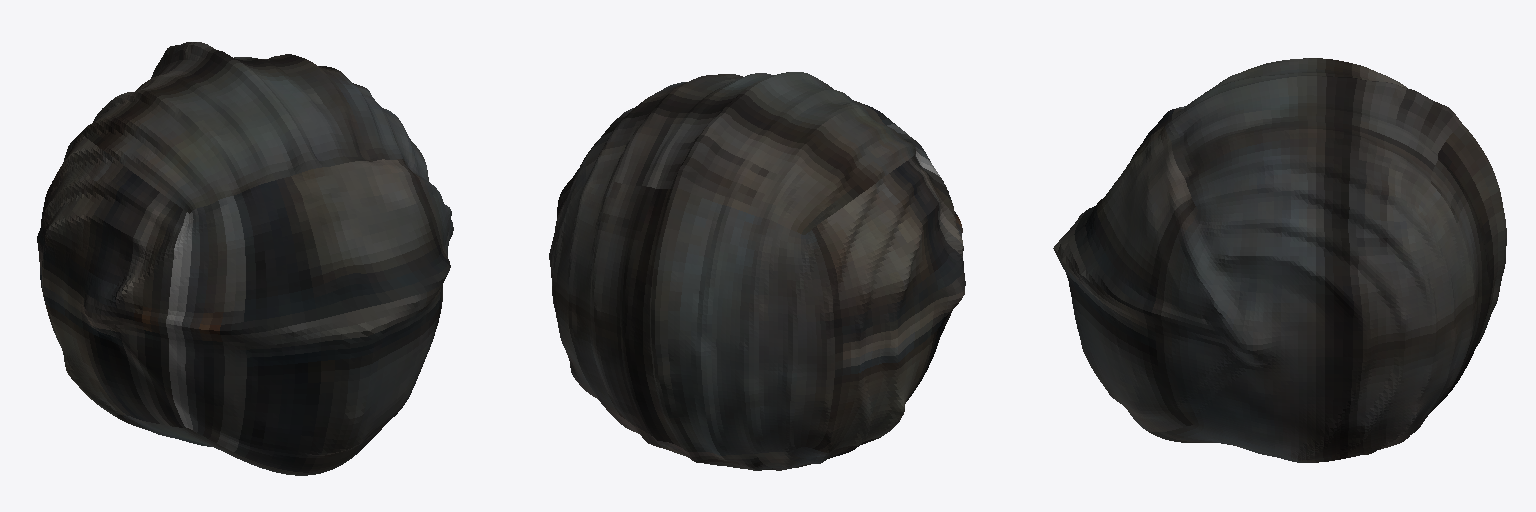
3 views of the same model, side by side, from view 1: azimuth 30°, elevation 25°; view 2: azimuth 150°, elevation 25°; view 3: azimuth 270°, elevation 25° (orthographic).
Parts seen in each view (by area): view 1: Cube; view 2: Cube; view 3: Cube.
Boxes of the visible parts, x1=… form: Cube: x1=37, y1=42, x2=453, y2=475; Cube: x1=549, y1=72, x2=965, y2=470; Cube: x1=1053, y1=58, x2=1506, y2=462.
Size of the model in its own units: 3.33 by 3.16 by 3.61.
1 materials, 1 textured.